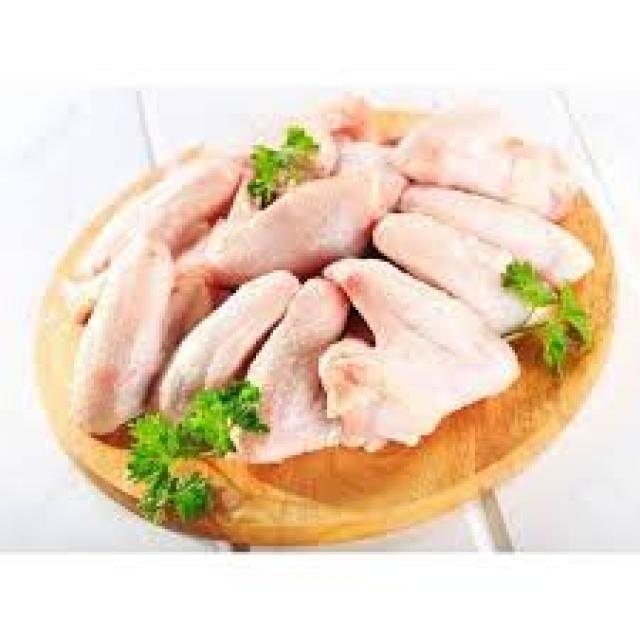Chicken: (65, 89, 592, 455)
Coriander: (115, 373, 273, 534), (483, 253, 598, 373), (238, 124, 323, 207)
